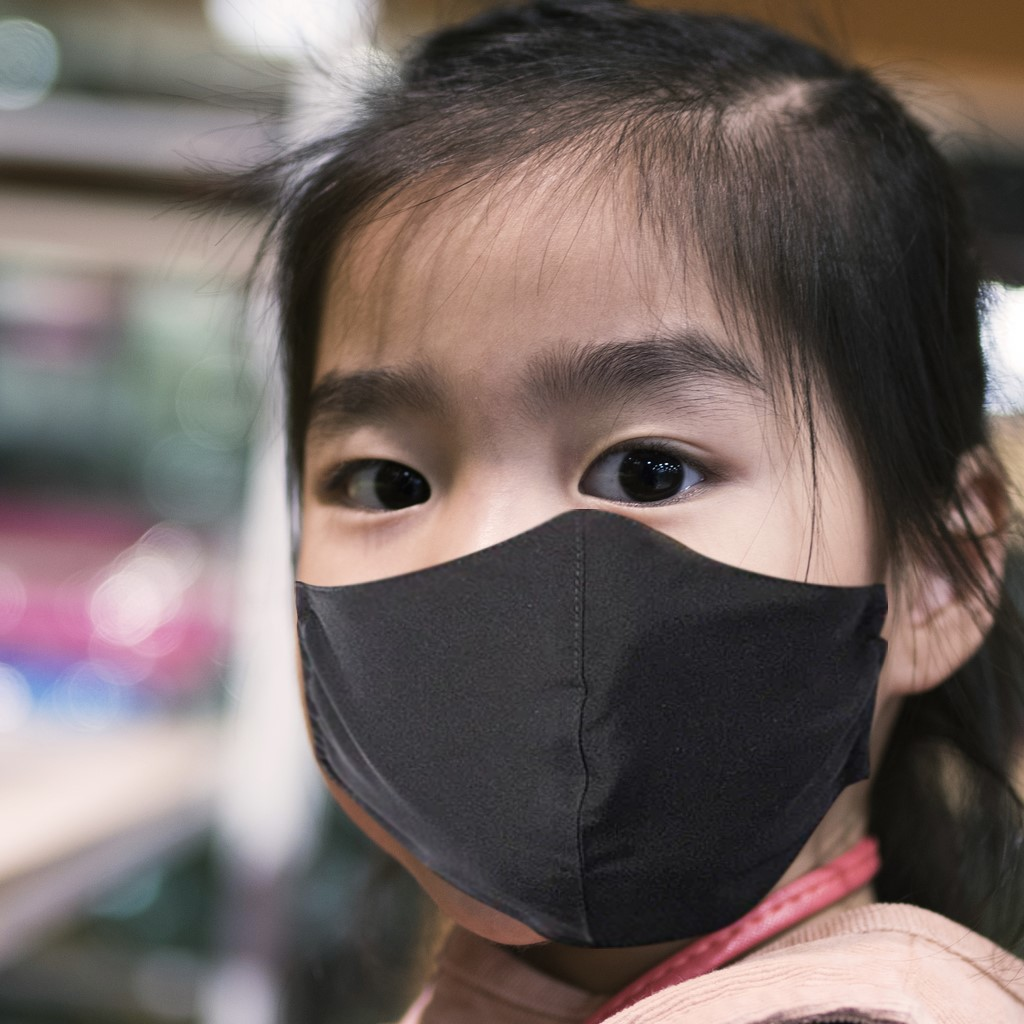con_mascara: (296, 169, 885, 907)
